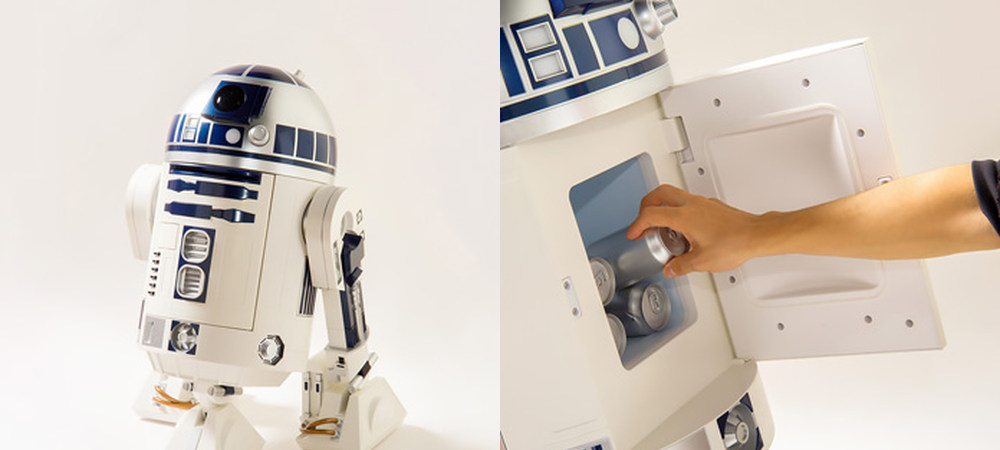r2d2: (125, 64, 400, 447)
